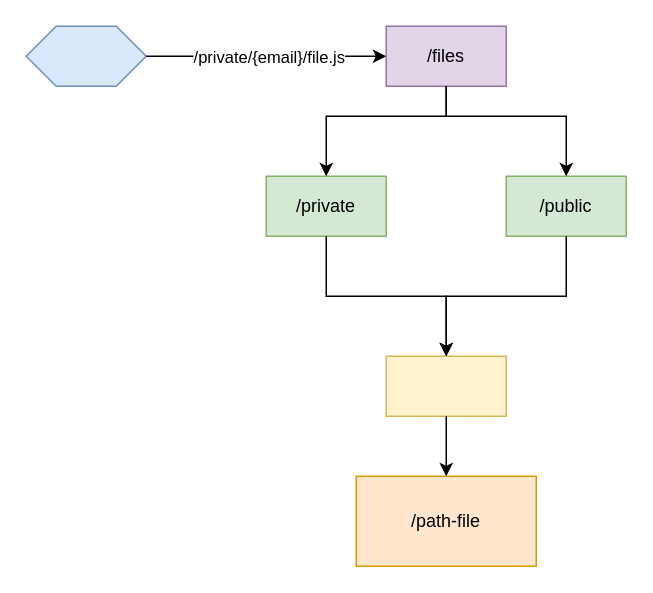
The diagram is 653 pixels wide and 593 high, and some of its shapes have lost their labels. Each missing label, with the centre of its shape:
"/{user-email}" goes at [445,385].
"Client" goes at [85,55].
